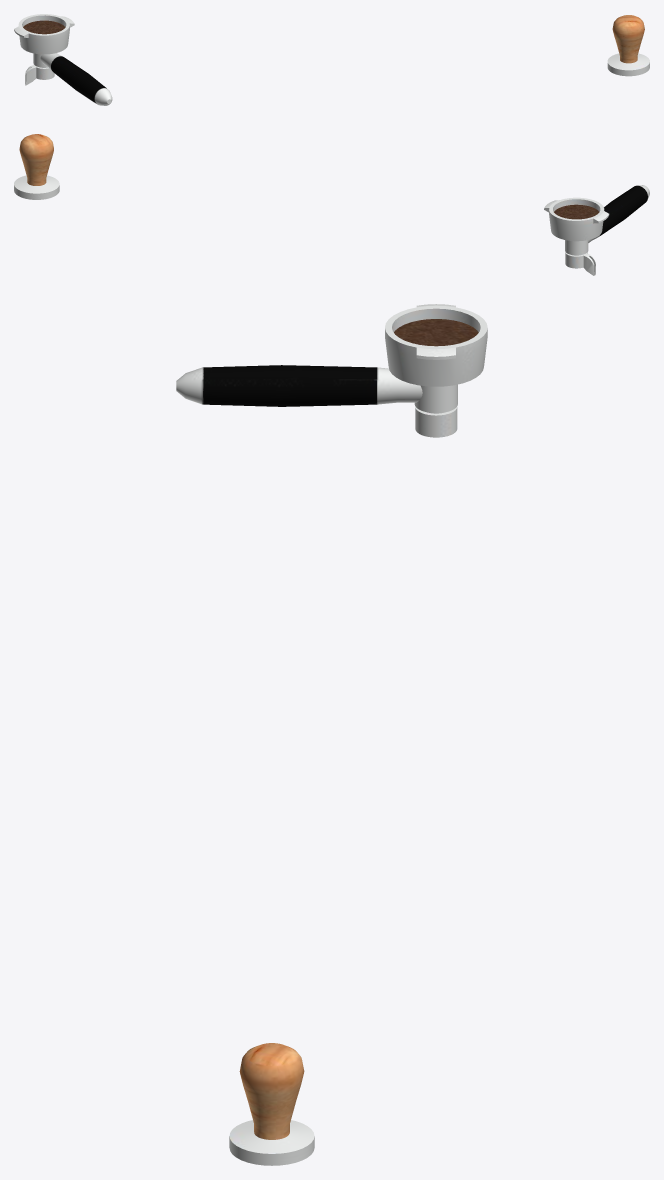
The model's file is express_acc.gltf.
3 views of the same model, one above another, from view 1: azimuth 30°, elevation 25°; view 2: azimuth 150°, elevation 25°; view 3: azimuth 270°, elevation 25° (orthographic). The views are drawn at different scales.
Visible parts, largest first — view 1: kolba, tamper, coffeePortion; view 2: kolba, tamper, coffeePortion; view 3: kolba, tamper, coffeePortion.
Part boxes in pixels (<box>): kolba: <box>14,14,112,105</box>; tamper: <box>607,15,649,76</box>; coffeePortion: <box>23,20,65,34</box>; kolba: <box>544,185,649,275</box>; tamper: <box>14,134,59,199</box>; coffeePortion: <box>554,204,599,219</box>; kolba: <box>176,304,487,437</box>; tamper: <box>229,1043,314,1165</box>; coffeePortion: <box>394,319,478,346</box>.
Size of the model in its own units: 0.9093 by 0.2139 by 0.2082.
1 material, 1 textured.
